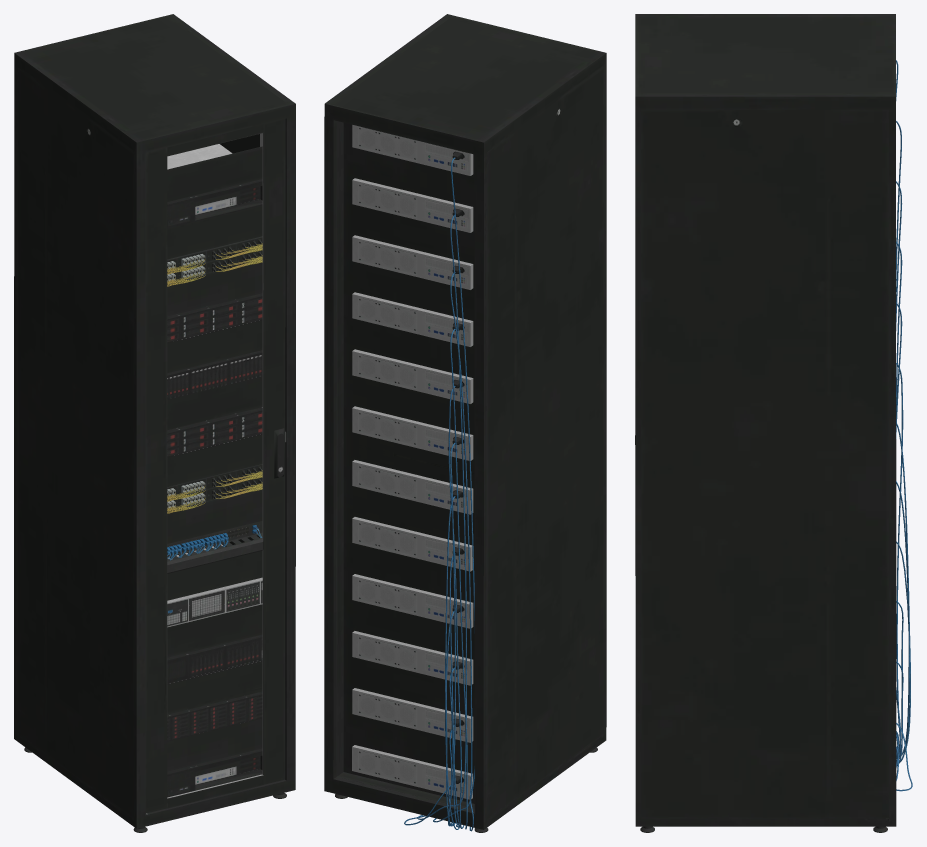
File: data_center_server_rack-compressed.glb
3 views of the same model, side by side, from view 1: azimuth 30°, elevation 25°; view 2: azimuth 150°, elevation 25°; view 3: azimuth 270°, elevation 25° (orthographic). The views are drawn at different scales.
Visible parts, largest first — view 1: SM_Server_Case_001, SM_Server_Case_Door_001, SM_Servers_1_001_1, SM_Server_7_001, SM_Servers_2_001, SM_Servers_2_001_1, SM_Servers_5_001, SM_Server_6_001, SM_Servers_4_001, SM_Servers_3_001, SM_Server_8_001_1, SM_Servers_1_001 (+1 smaller); view 2: SM_Server_Case_001, SM_Back_001; view 3: SM_Server_Case_001, SM_Back_001.
Part boxes in pixels (x1,y1,x2,y2): SM_Server_Case_001: (14,14,295,832); SM_Server_Case_Door_001: (145,118,285,813); SM_Servers_1_001_1: (167,144,262,228); SM_Server_7_001: (167,521,263,573); SM_Servers_2_001: (167,407,262,457); SM_Servers_2_001_1: (167,293,262,343); SM_Servers_5_001: (167,691,262,741); SM_Server_6_001: (167,544,262,627); SM_Servers_4_001: (167,634,262,684); SM_Servers_3_001: (167,350,262,399); SM_Server_8_001_1: (167,236,262,286); SM_Servers_1_001: (167,748,262,797); SM_Server_Case_001: (324,14,606,832); SM_Back_001: (352,125,474,831); SM_Server_Case_001: (635,14,896,832); SM_Back_001: (896,60,912,791).
Size of what is drawn, in the model's own units: 0.6 by 2.5 by 0.852.
Materials: 3 (3 with a texture image).
